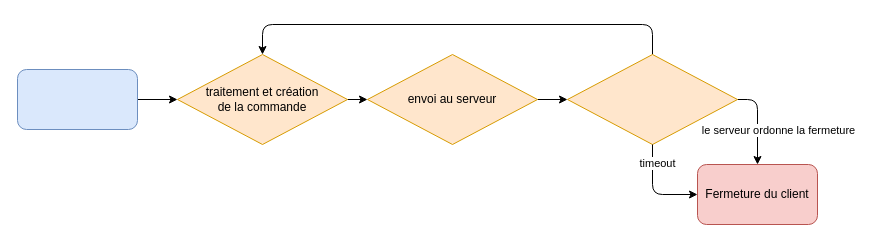
Image size: 872x242. Some labels were removed from this diagram. The centre of each missing label's shape, as x and y in pixels:
lecture de l'identifiant utilisateur: (x=77, y=99)
récéption de la réponse du serveur: (x=652, y=99)
